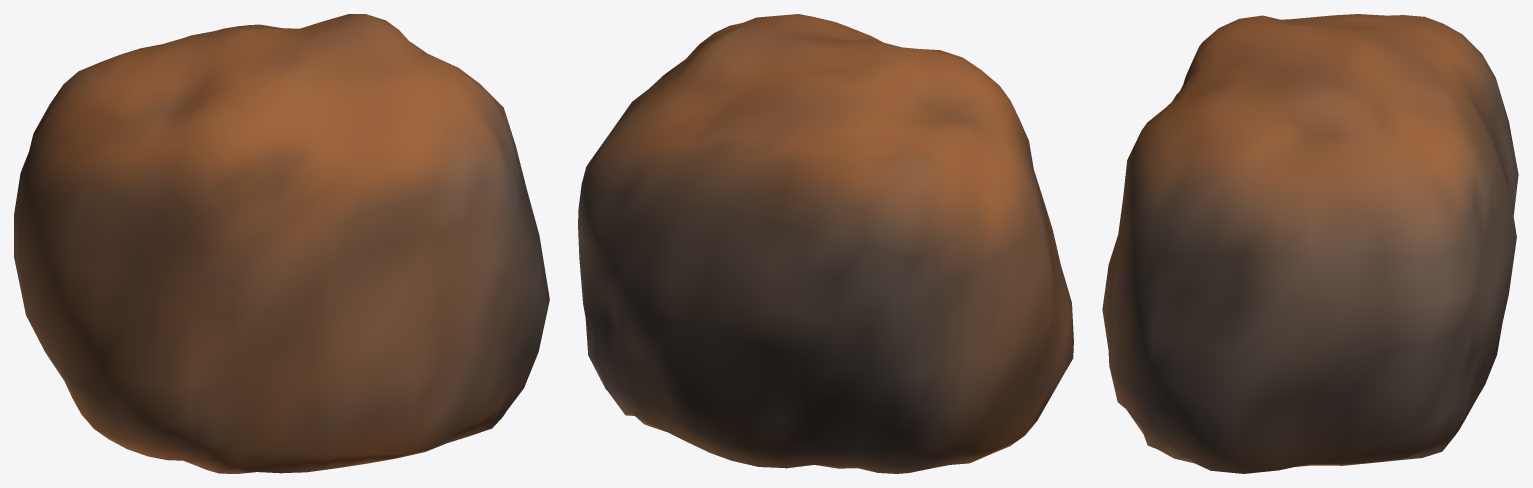
File: yogi.glb
The picture shows the model from 3 angles, left to right: view 1: azimuth 30°, elevation 25°; view 2: azimuth 150°, elevation 25°; view 3: azimuth 270°, elevation 25°; orthographic projection. The views are drawn at different scales.
Parts seen in each view (by area): view 1: rock-yogi; view 2: rock-yogi; view 3: rock-yogi.
Boxes of the visible parts, bbox=[...] form: rock-yogi: bbox=[14, 14, 549, 473]; rock-yogi: bbox=[578, 14, 1073, 473]; rock-yogi: bbox=[1102, 14, 1518, 473].
Size of the model in its own units: 1.25 by 0.95 by 1.05.
